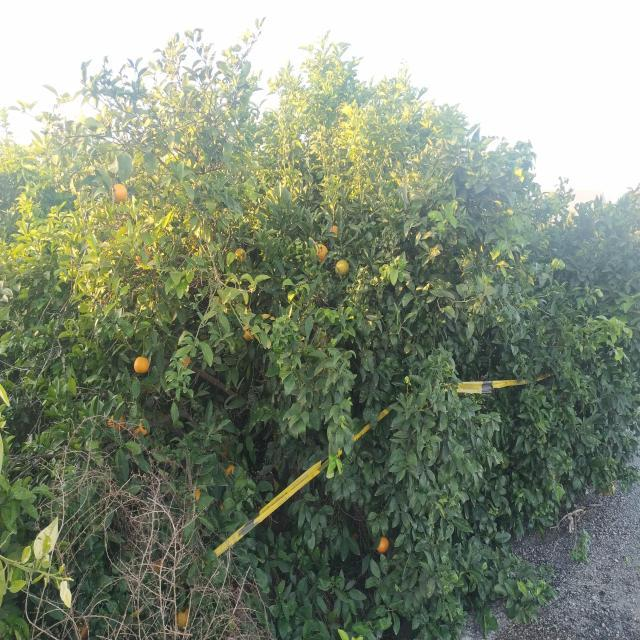Jeruk Sudah Matang: (130, 417, 150, 439), (175, 606, 192, 628), (108, 413, 126, 432), (111, 184, 128, 202), (134, 357, 150, 375), (312, 244, 328, 262), (335, 260, 350, 277), (243, 324, 257, 341), (178, 356, 192, 370), (236, 248, 247, 264), (328, 226, 342, 237), (378, 537, 388, 552), (226, 463, 236, 477), (194, 488, 201, 501), (220, 504, 224, 511)
